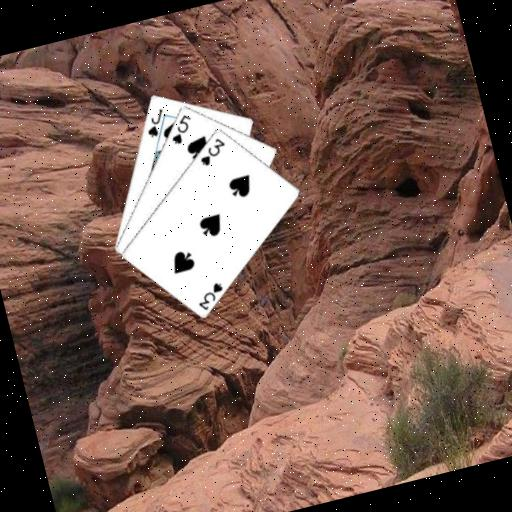3S: (193, 133, 231, 169), (191, 278, 229, 313)
5S: (164, 110, 198, 148)
JS: (139, 105, 170, 140)
